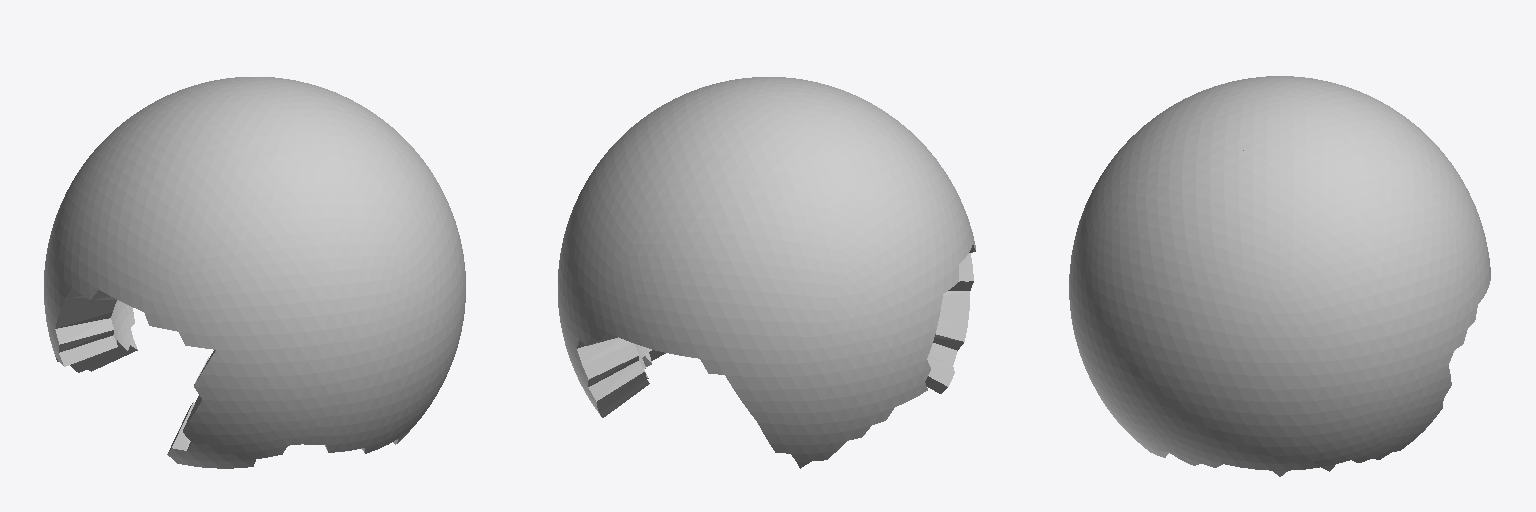
The model's file is clouds_4.obj.
The picture shows the model from 3 angles: view 1: azimuth 30°, elevation 25°; view 2: azimuth 150°, elevation 25°; view 3: azimuth 270°, elevation 25°; orthographic projection.
Parts seen in each view (by area): view 1: Icosphere.029; view 2: Icosphere.029; view 3: Icosphere.029.
Part boxes in pixels (bbox=[...]): Icosphere.029: bbox=[44, 77, 465, 468]; Icosphere.029: bbox=[558, 77, 975, 468]; Icosphere.029: bbox=[1069, 76, 1490, 476].
Bounding box in the file's own units: 21.55 × 18.09 × 21.63.